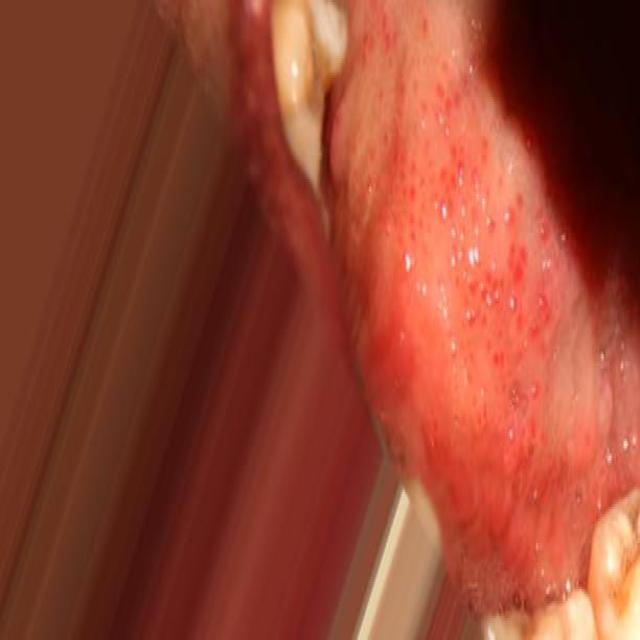caries: (284, 3, 354, 161), (591, 465, 640, 640)
